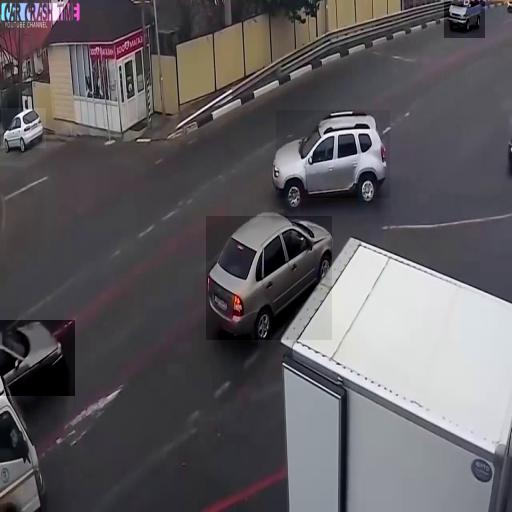小汽车: (206, 216, 332, 340), (276, 110, 390, 198), (0, 320, 75, 396), (1, 108, 46, 148), (444, 0, 485, 38)
